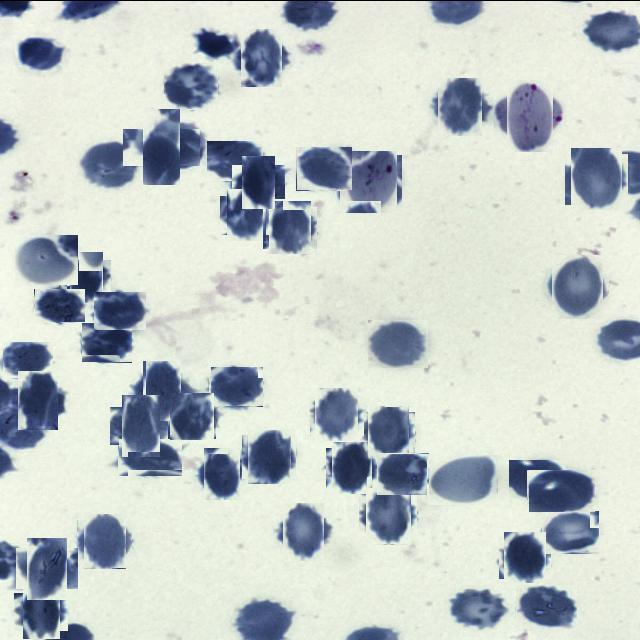red blood cell: (428, 454, 498, 504), (548, 256, 606, 314), (15, 234, 80, 284), (568, 150, 625, 207), (133, 118, 190, 175), (528, 469, 595, 512), (368, 319, 428, 367), (80, 140, 138, 187), (148, 121, 206, 168), (434, 80, 486, 132), (516, 584, 577, 628), (362, 490, 414, 541), (22, 542, 72, 594), (163, 62, 218, 109), (541, 510, 599, 554), (236, 32, 286, 82), (278, 506, 328, 556), (12, 374, 62, 424), (116, 400, 166, 450), (296, 146, 352, 190), (244, 432, 294, 481), (138, 365, 187, 415), (118, 438, 182, 476), (450, 586, 506, 629), (80, 516, 129, 565), (313, 389, 361, 438), (266, 203, 314, 251), (376, 452, 429, 495), (207, 140, 263, 180), (365, 408, 412, 455), (510, 459, 568, 497), (223, 192, 270, 238), (210, 366, 264, 406), (330, 444, 376, 490), (18, 588, 64, 634), (502, 534, 548, 580), (169, 393, 215, 439), (81, 322, 132, 362), (94, 291, 146, 329), (200, 450, 244, 494), (63, 254, 107, 298), (237, 159, 280, 203), (3, 341, 53, 377), (15, 34, 65, 69), (34, 288, 85, 322)
ring: (500, 85, 560, 144), (342, 152, 400, 210)
